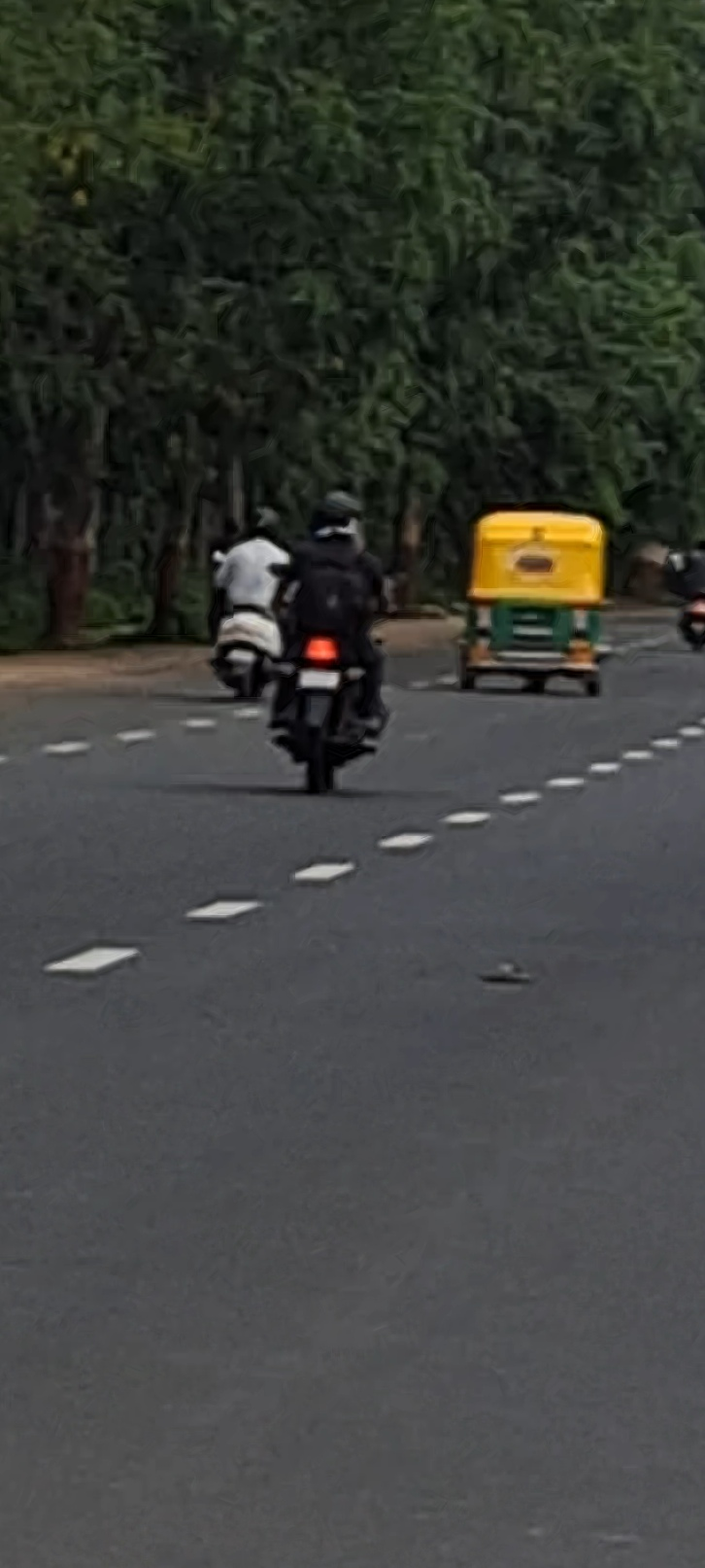BikeWithRider: (253, 477, 405, 802), (194, 495, 304, 706)
Helmet: (300, 481, 373, 552)
